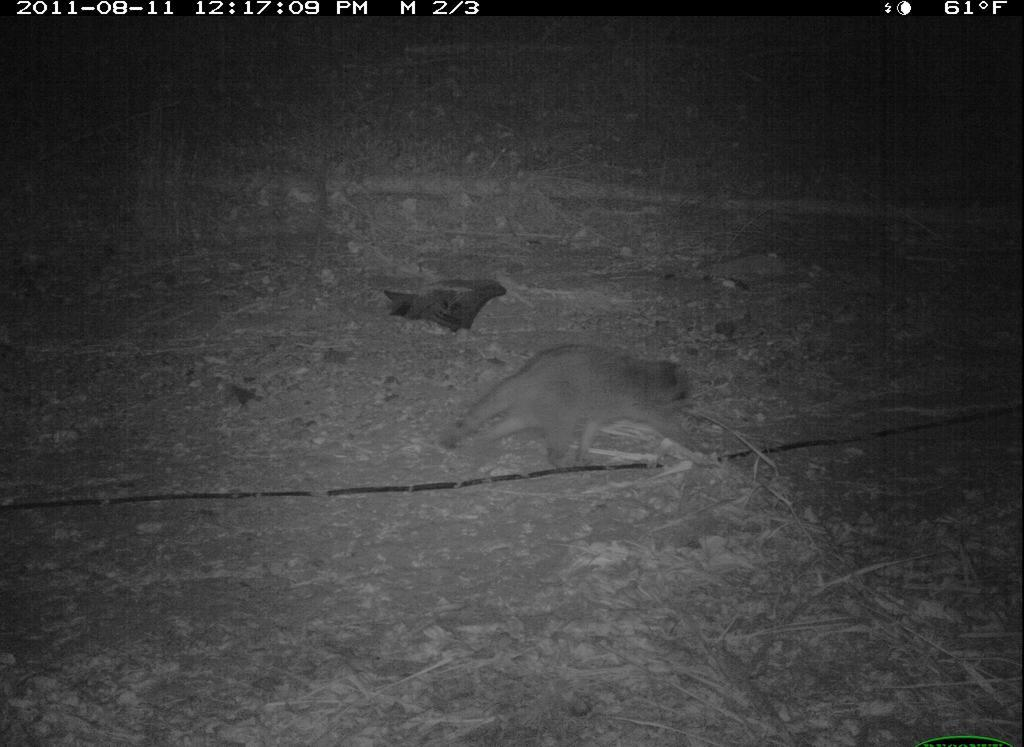raccoon: (429, 345, 725, 483)
